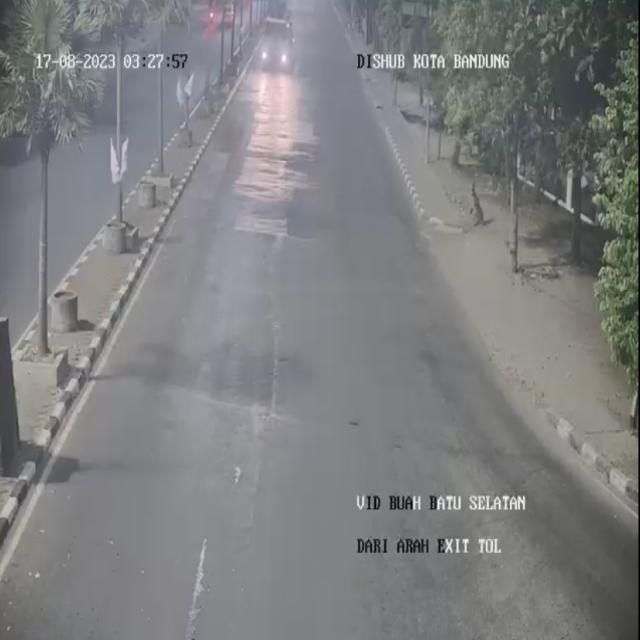truck: (253, 7, 299, 85)
